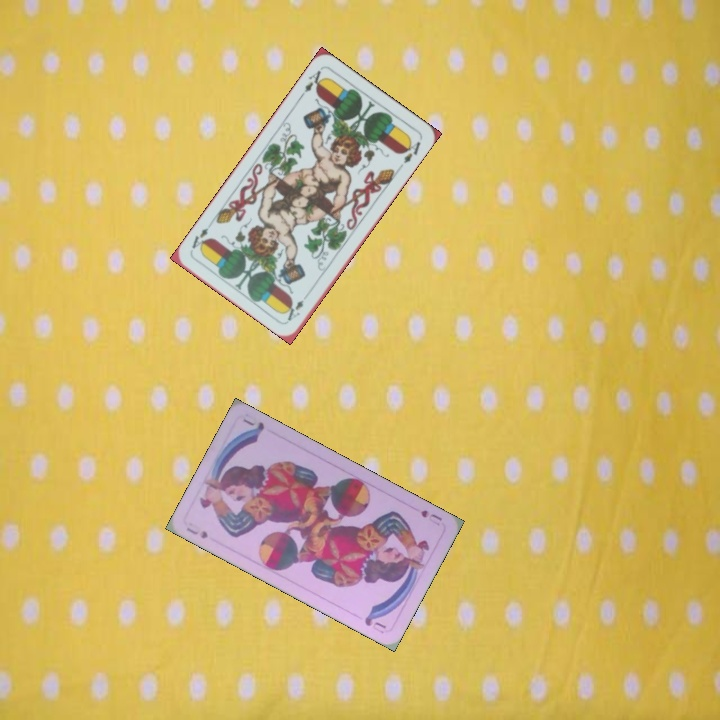EA: (296, 66, 327, 100), (283, 288, 312, 324)
SU: (416, 506, 445, 528), (182, 523, 211, 541)
